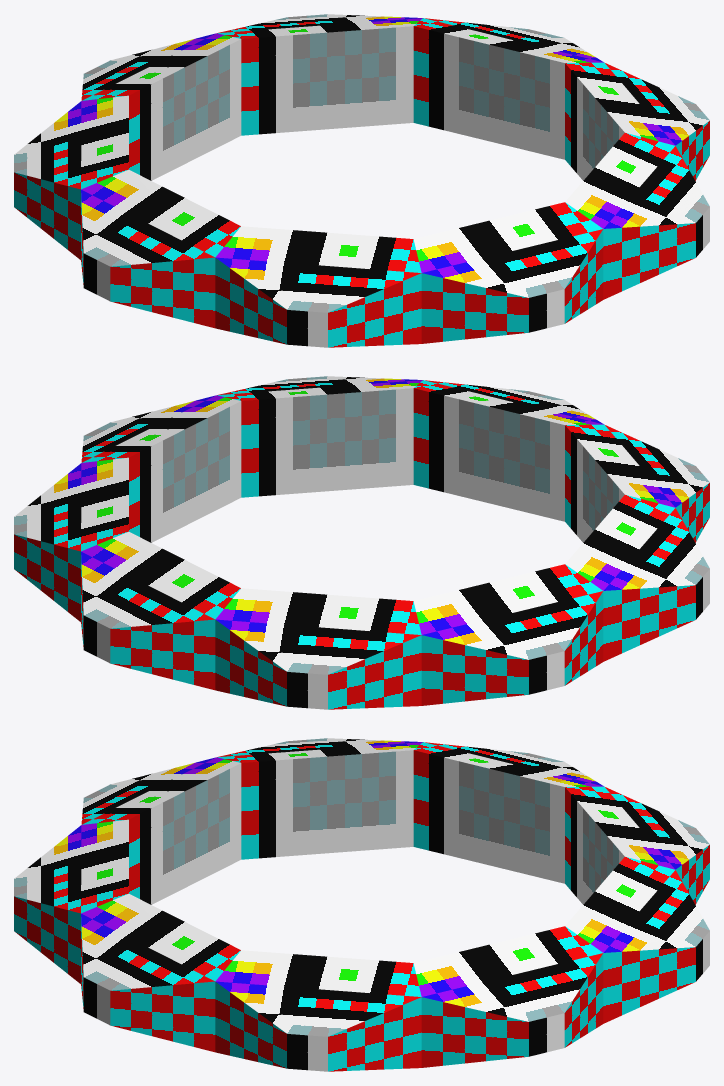
File: servo motor.obj
3 views of the same model, one above another, from view 1: azimuth 30°, elevation 25°; view 2: azimuth 150°, elevation 25°; view 3: azimuth 270°, elevation 25° (orthographic).
Parts seen in each view (by area): view 1: Dark_Gear_Circle; view 2: Dark_Gear_Circle; view 3: Dark_Gear_Circle.
Part boxes in pixels (left/top/right/bottom): Dark_Gear_Circle: left=14, top=14, right=709, bottom=347; Dark_Gear_Circle: left=14, top=376, right=709, bottom=709; Dark_Gear_Circle: left=14, top=738, right=709, bottom=1071.
Size of the model in its own units: 1.33 by 0.2007 by 1.31.
